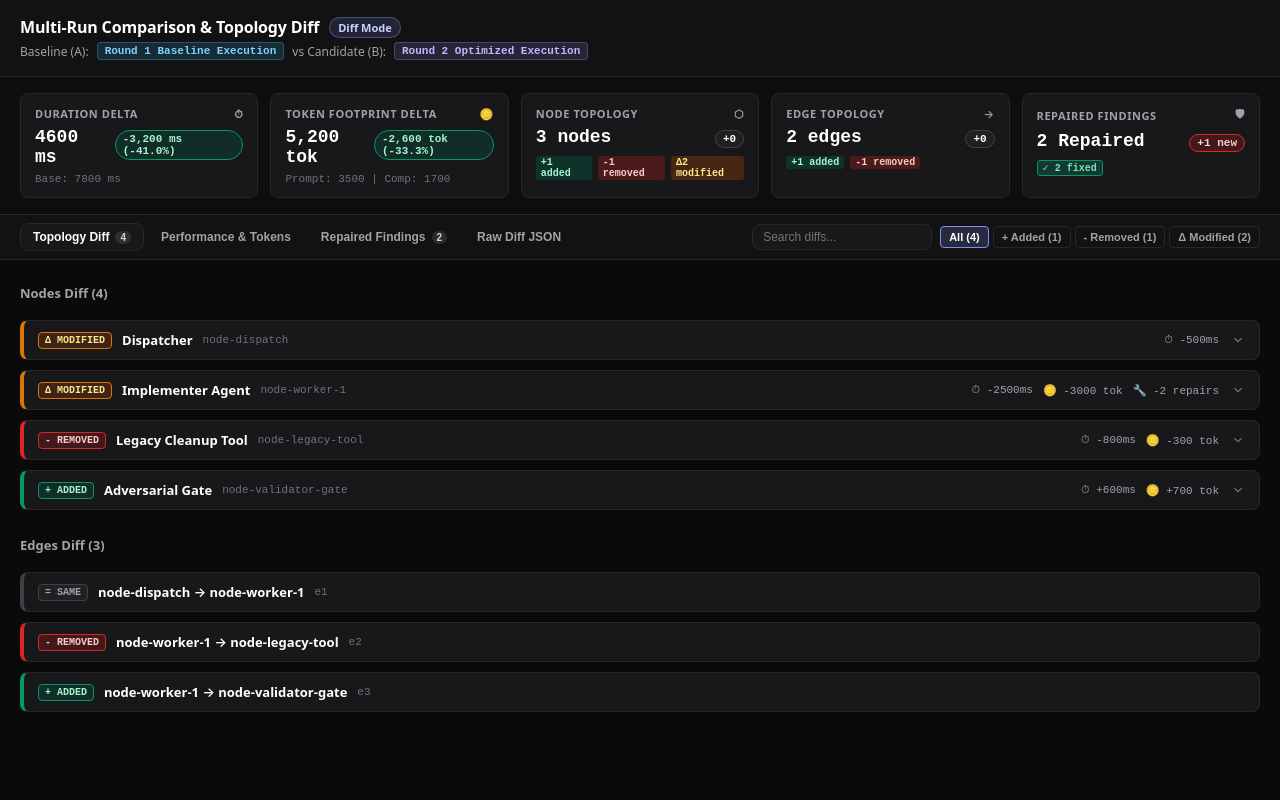
Test: ComparisonView Component › renders repaired findings with revalidation proof in findings tab
The width and height of the screenshot is (1280, 800).
Click the tab with test id "tab-findings".
click(384, 237)  # box [308,223,460,251]
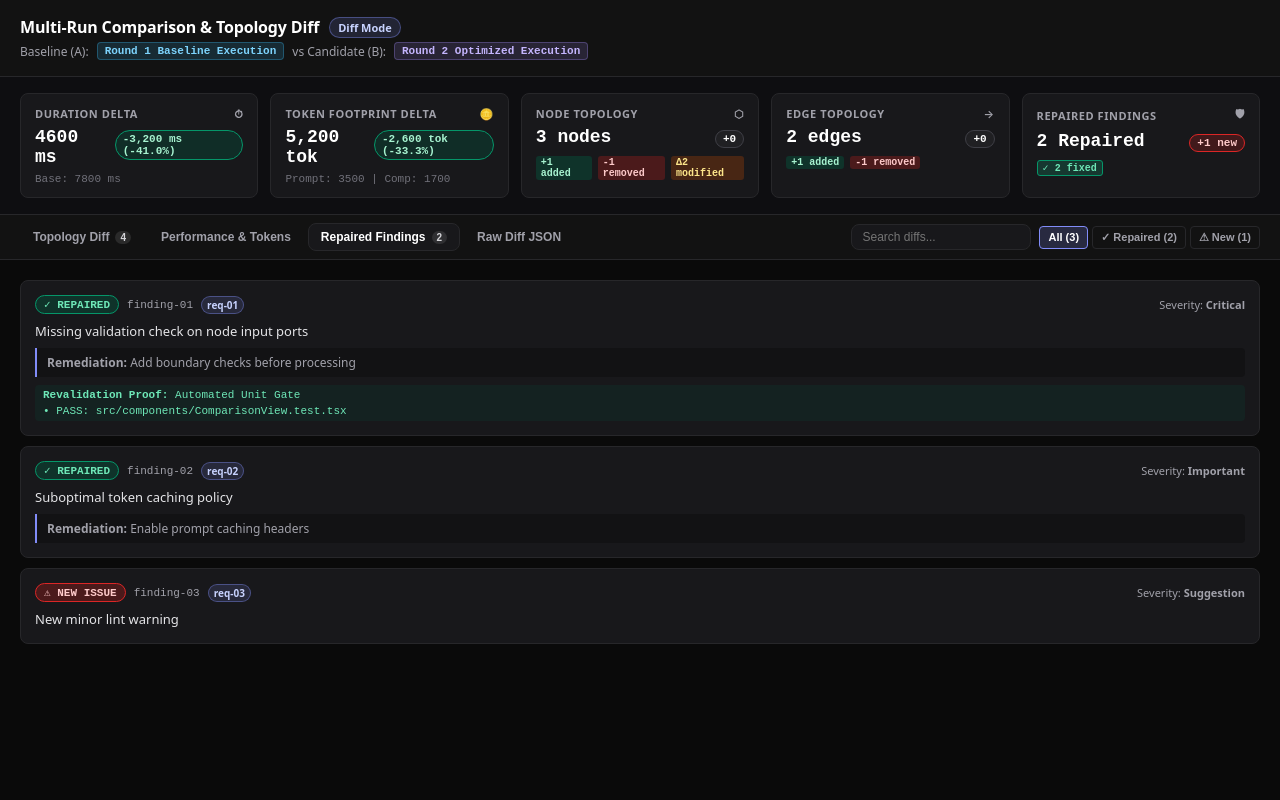
Result: the element with test id "findings-diff-view" is shown at [20,280,1260,644]
Result: the text with test id "finding-status-finding-01" reads "✓ REPAIRED" at [44,299,110,311]
Result: the element with test id "finding-proof-finding-01" is shown at [35,385,1245,421]
